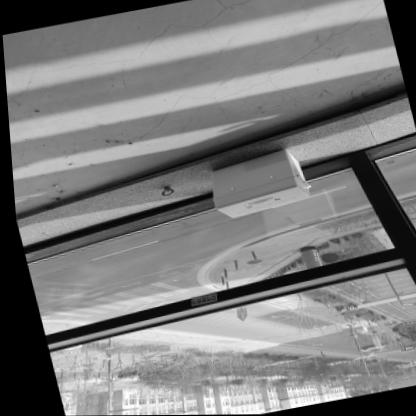DDL: (199, 143, 314, 222)
